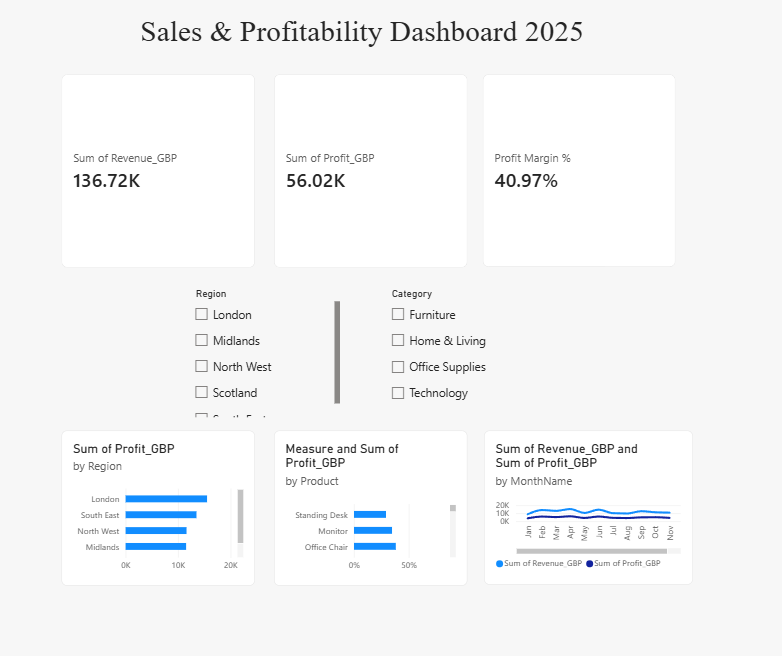

Layout of this report page (visuals, bound fields, positions):
{"tool":"powerbi","page":{"name":"Page 1","canvas":[1920,1080],"ordinal":0},"visuals":[{"type":"cardVisual","fields":{"Data":["Sum(Table1.Revenue_GBP)"]},"box":[510.9,154.7,280,280],"z":0},{"type":"cardVisual","fields":{"Data":["Sum(Table1.Profit_GBP)"]},"box":[818.8,154.7,280,280],"z":1},{"type":"cardVisual","fields":{"Data":["Table1.Measure"]},"box":[1120.3,154.7,279.7,279.7],"z":2},{"type":"barChart","fields":{"Category":["Table1.Region"],"Y":["Sum(Table1.Profit_GBP)"]},"box":[510.9,670.3,280,224.7],"z":3},{"type":"lineChart","fields":{"Category":["Table1.MonthName"],"Y":["Sum(Table1.Revenue_GBP)","Sum(Table1.Profit_GBP)"]},"box":[1121.9,670.3,302.4,223.5],"z":4},{"type":"barChart","fields":{"Category":["Table1.Product"],"Y":["Table1.Measure"]},"box":[818.8,670.3,280,224.7],"z":5},{"type":"slicer","fields":{"Values":["Table1.Region"]},"box":[696.9,462.5,216.5,187.1],"z":6},{"type":"slicer","fields":{"Values":["Table1.Category"]},"box":[981.2,462.5,280,179],"z":7},{"type":"textbox","box":[623.4,67.2,671.9,87.5],"z":8}]}

Visuals, with their boxes in screenshot pixels (x1, y1, x2, y2):
cardVisual - Sum(Table1.Revenue_GBP): box(211, 36, 327, 153)
cardVisual - Sum(Table1.Profit_GBP): box(339, 36, 456, 153)
cardVisual - Table1.Measure: box(464, 36, 581, 152)
barChart - Table1.Region x Sum(Table1.Profit_GBP): box(211, 251, 327, 344)
lineChart - Table1.MonthName x Sum(Table1.Revenue_GBP): box(465, 251, 591, 344)
barChart - Table1.Product x Table1.Measure: box(339, 251, 456, 344)
slicer - Table1.Region: box(288, 164, 378, 242)
slicer - Table1.Category: box(407, 164, 523, 239)
textbox: box(258, 0, 537, 36)
